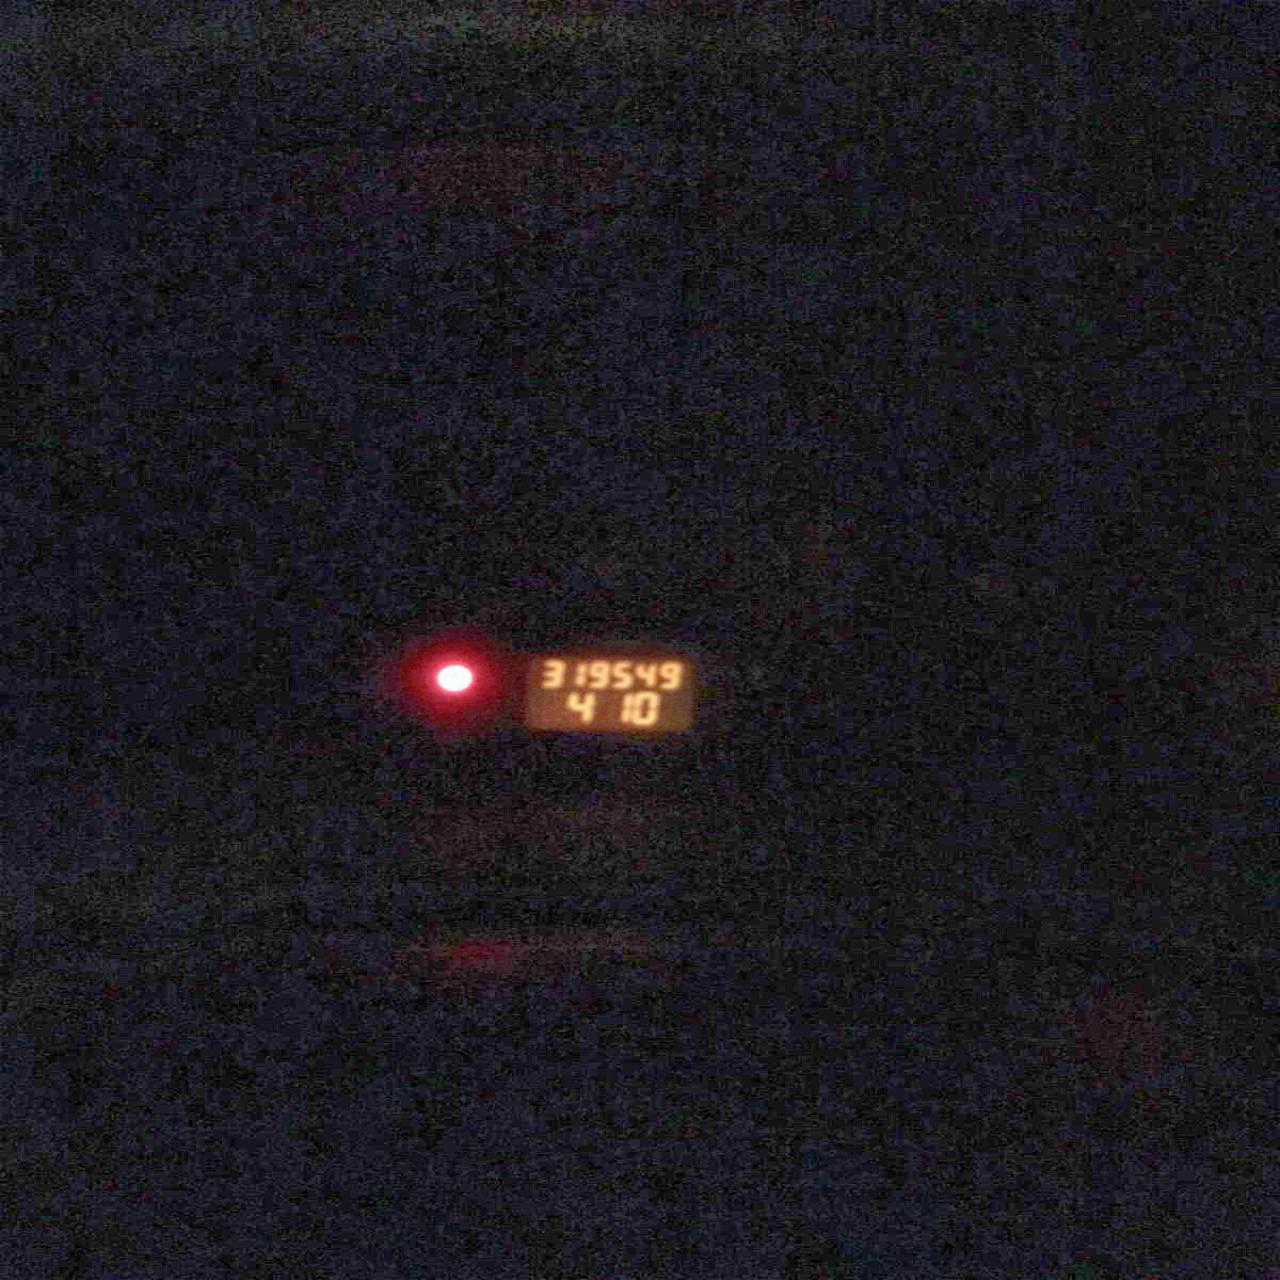0: (632, 692, 658, 724)
1: (619, 692, 633, 723), (574, 661, 587, 685)
3: (542, 659, 564, 687)
4: (566, 692, 597, 722), (635, 662, 658, 688)
5: (611, 660, 634, 688)
9: (658, 661, 682, 690), (587, 659, 611, 689)
odometer: (524, 654, 696, 735)
